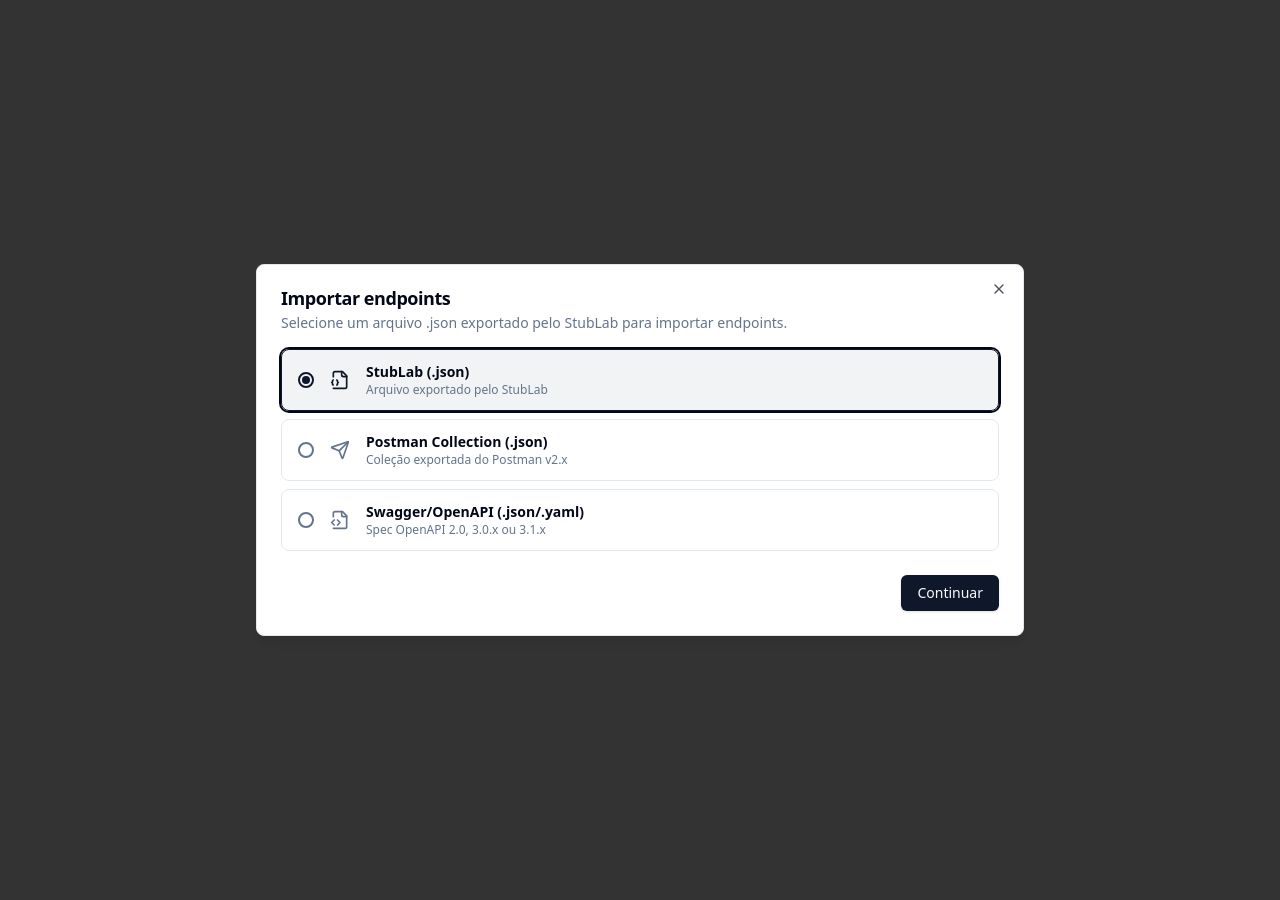
Test: ImportModal › renderiza input de arquivo no estado idle
expect the heading "Importar endpoints" is shown: met, box 281,286 -> 450,310
What coordinates should you click on to do the following:
click the button "Continuar"
I would click on:
 (950, 593)
Its box is 901,575 -> 999,611.
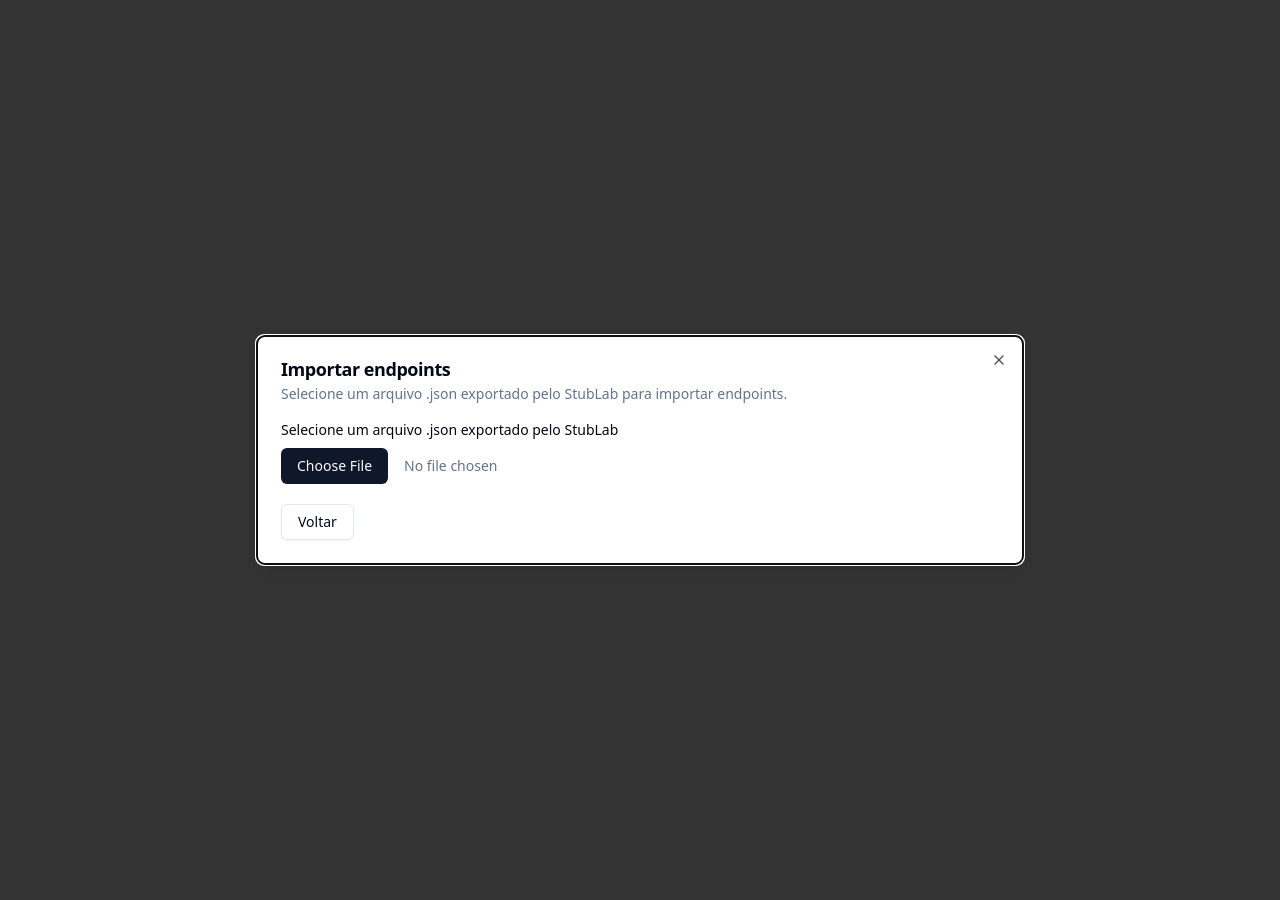
expect the file field labelled "Selecione um arquivo .json exportado pelo StubLab" is shown: met, box 281,448 -> 999,484
